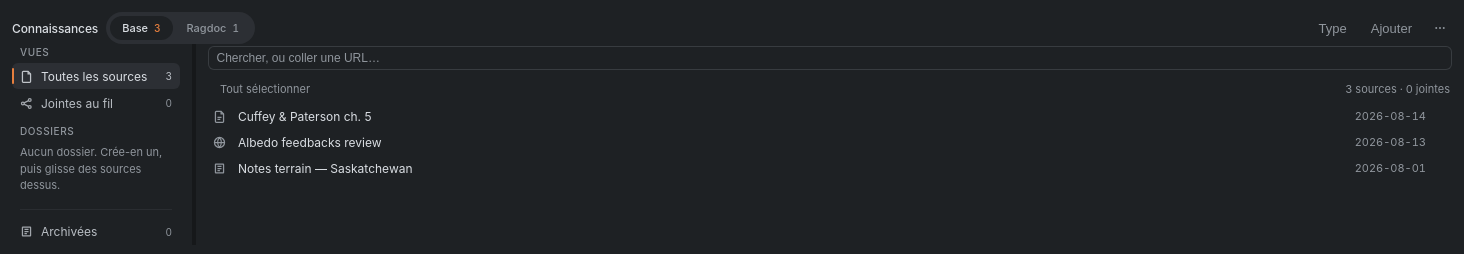
Scenario: KbSurface › les types filtrent depuis un menu, pas depuis une rangée de puces
Click the button "Type". click: (1333, 28)
box: [1311,14,1355,42]
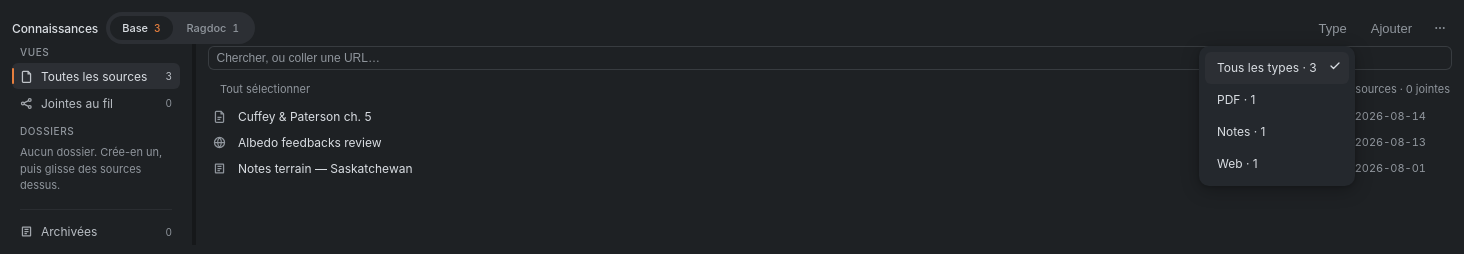
Click the menu item "PDF · 1". click: (1236, 100)
box: [1217,92,1256,107]
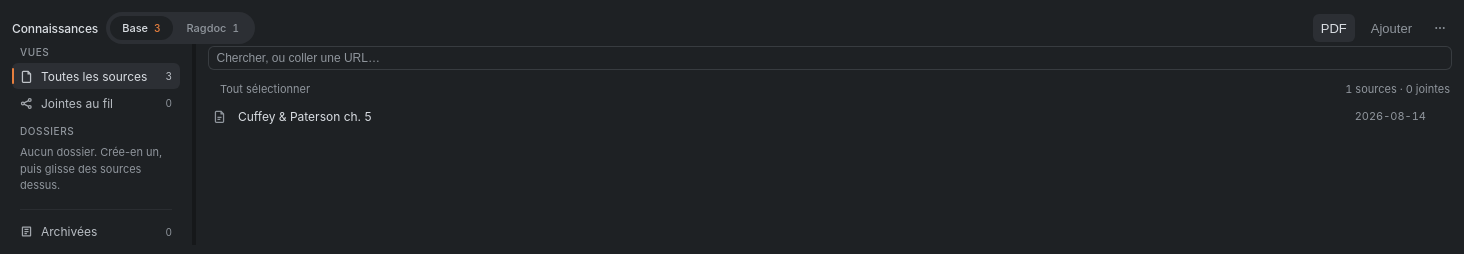
Expected: the text "Cuffey & Paterson ch. 5" is shown, [238,108,372,124]
Now the button "Albedo feedbacks review" is gone
Note: le déclencheur porte le filtre actif, et « tous les types » y revient
Click the button "PDF". click: (1334, 28)
box: [1313,14,1355,42]
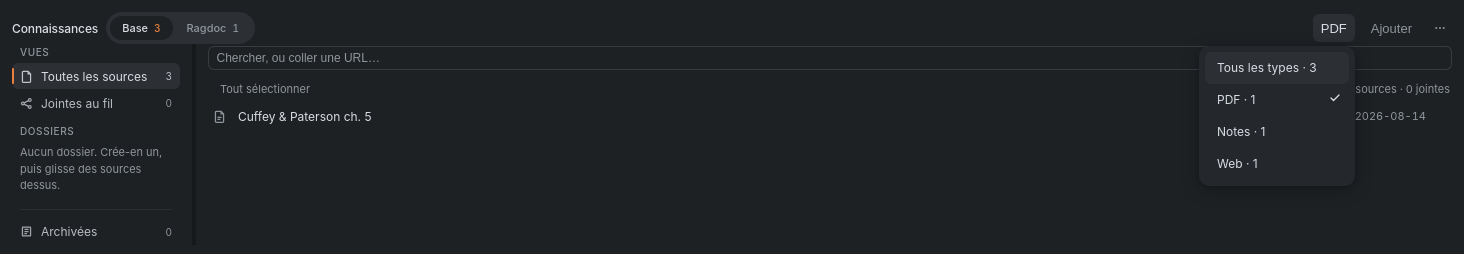
Click the menu item "Tous les types · 3". click: (1277, 68)
box: [1205,52,1349,84]
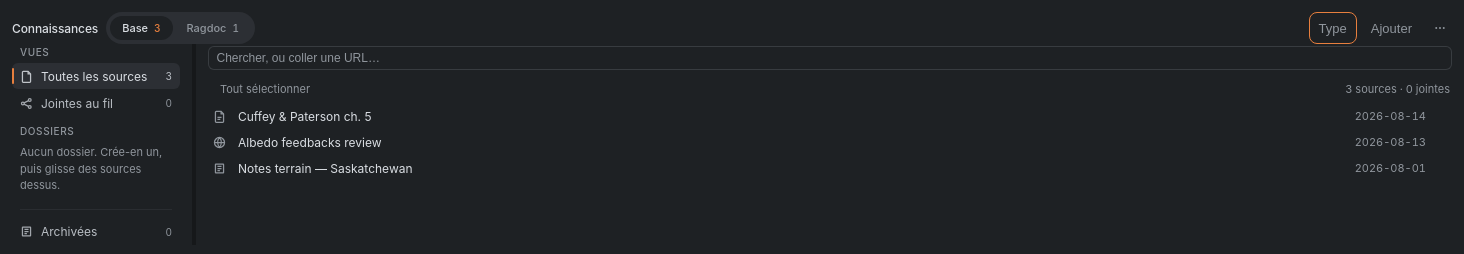
Now the text "Albedo feedbacks review" is shown, box [238,134,382,150]
